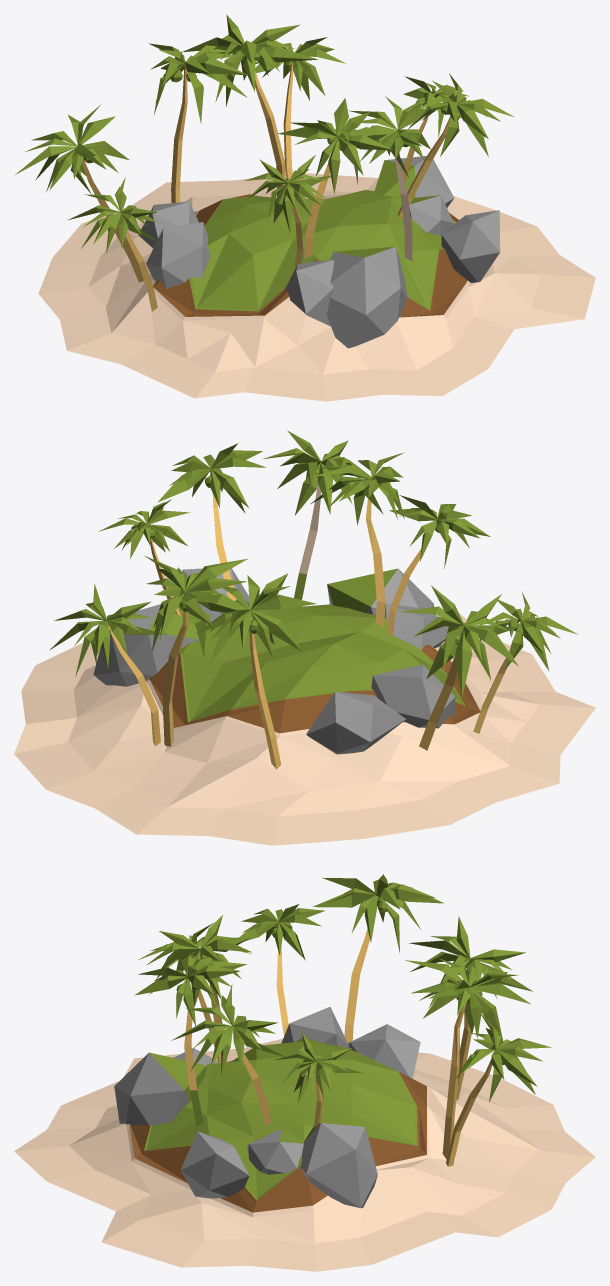
The model's file is bzLVwG4AzvA.glb.
The picture shows the model from 3 angles, top to bottom: view 1: azimuth 30°, elevation 25°; view 2: azimuth 150°, elevation 25°; view 3: azimuth 270°, elevation 25°; orthographic projection. The views are drawn at different scales.
Visible parts, largest first — view 1: Island; view 2: Island; view 3: Island.
Part boxes in pixels (bbox=[...]): Island: bbox=[15, 14, 595, 401]; Island: bbox=[14, 430, 595, 845]; Island: bbox=[14, 874, 595, 1271].
Size of the model in its own units: 2.36 by 0.9999 by 2.41.
1 material, 1 textured.
